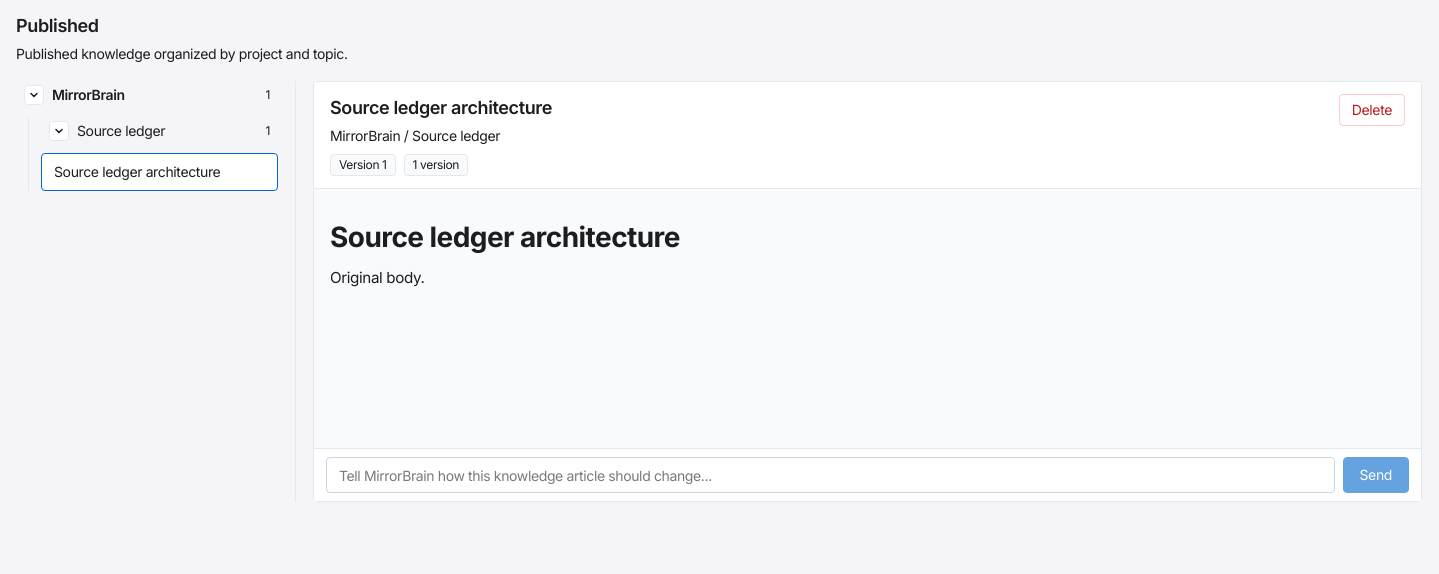
Test: WorkSessionAnalysisPanel › sends revision feedback for the selected published article and refreshes the article body
Expected: the text "Original body." is shown, [330,268,424,287]
Type "Make the conclusion sharper." into the field named "Revision Request".
click(830, 475); type("Make the conclusion sharper.")  # box [326,457,1334,493]
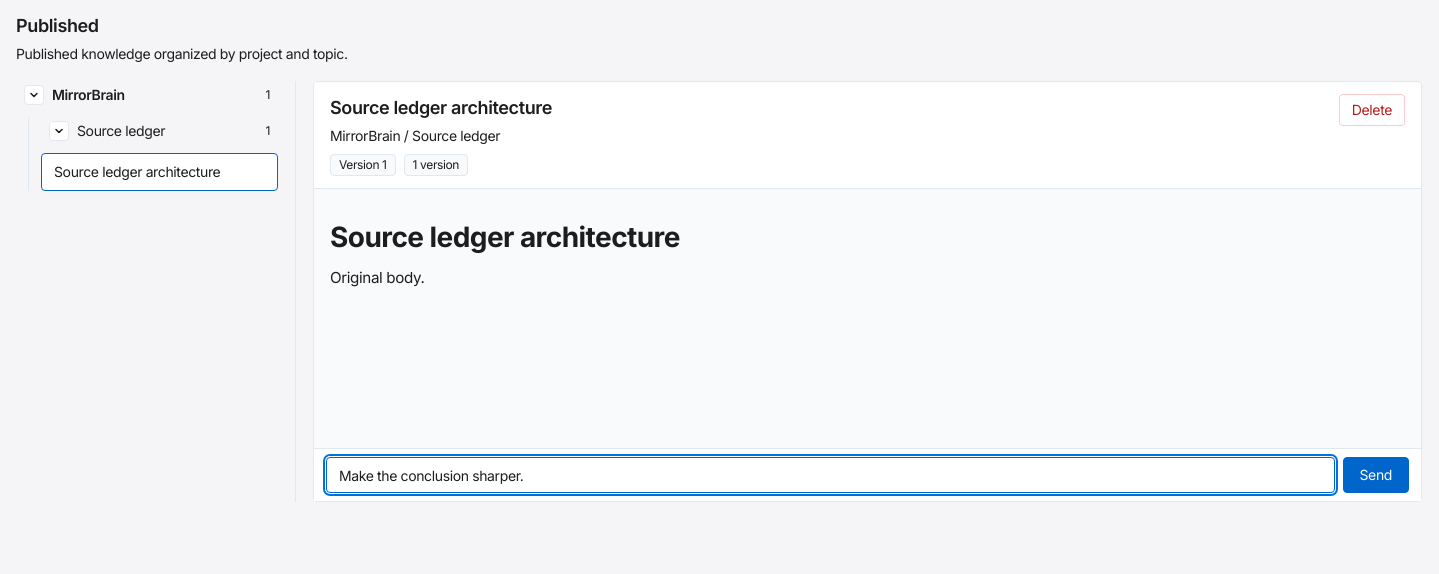
Click the button "Send".
click(1376, 475)  # box [1342,457,1409,493]
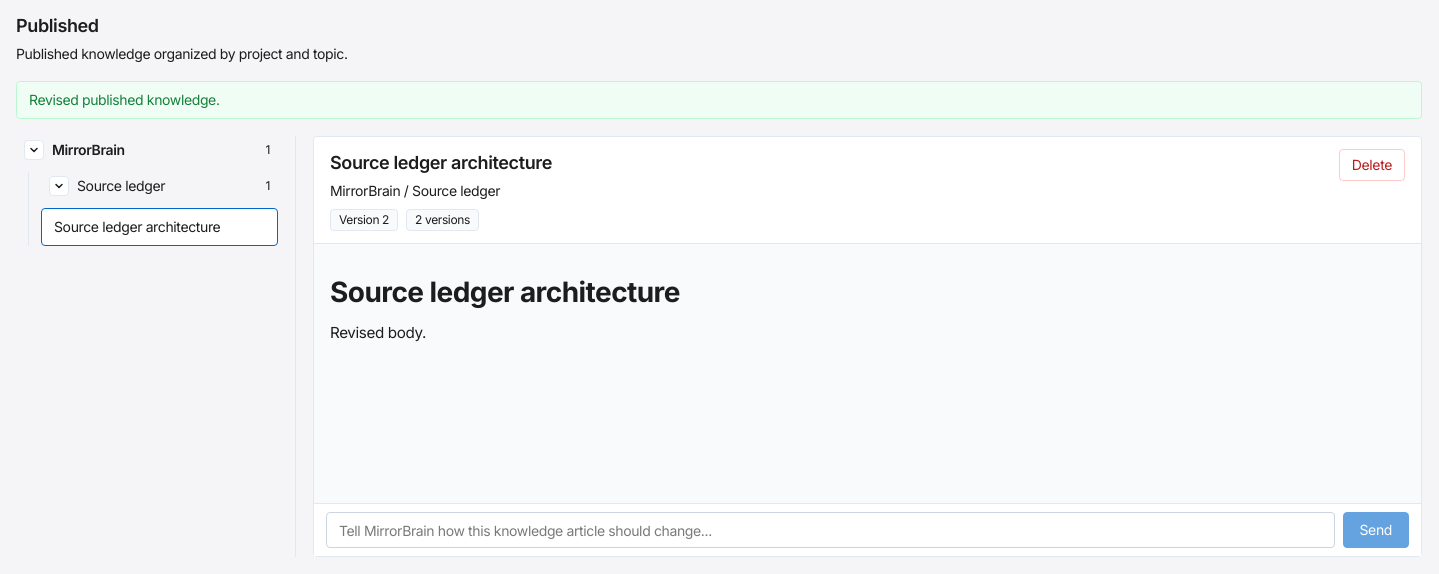
Expected: the text "Revised published knowledge." is shown, [16,81,1422,119]
Expected: the element with test id "published-knowledge-panel" shows "Revised body.", [330,323,426,342]
Expected: the field named "Revision Request" is empty, [326,512,1334,548]
